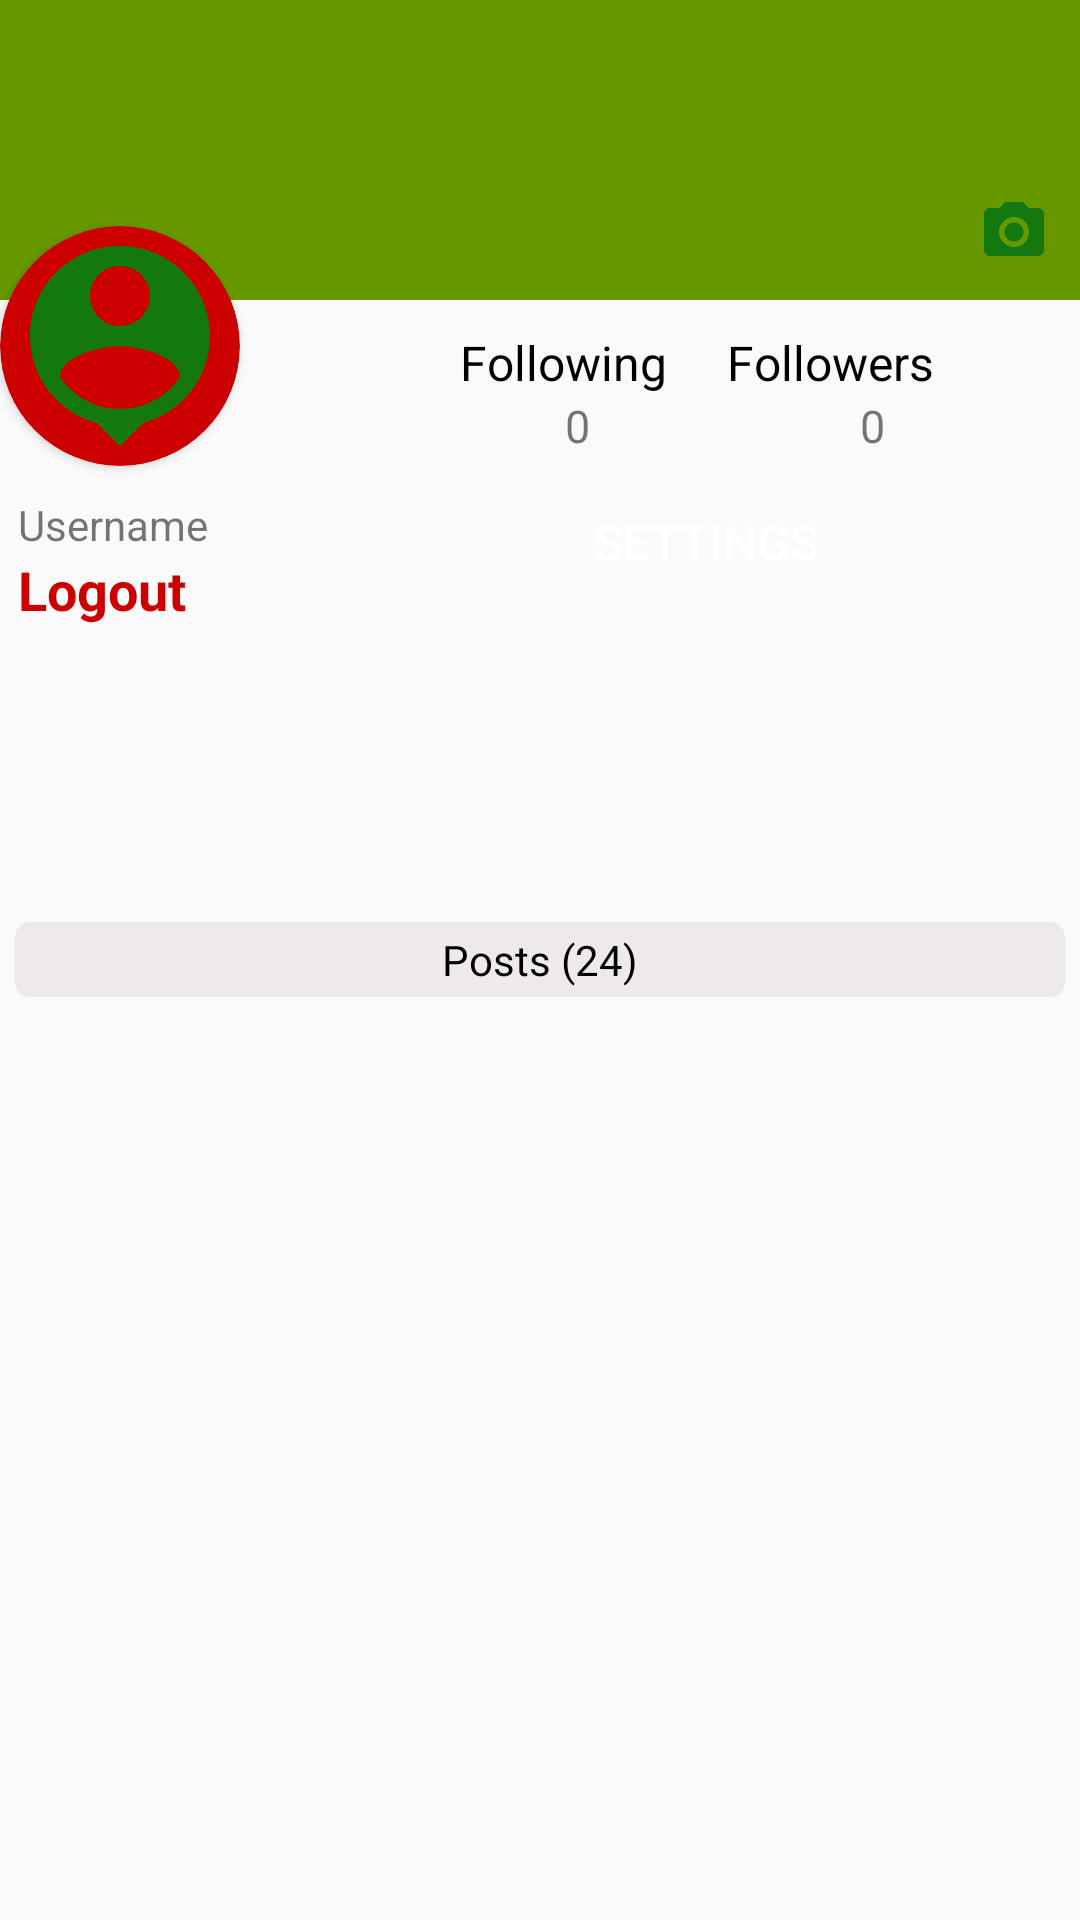

Point at icon controls on the screen. Image size 1080 × 1920, points as (x,y).
camera: (1014,229)
profile: (120,346)
